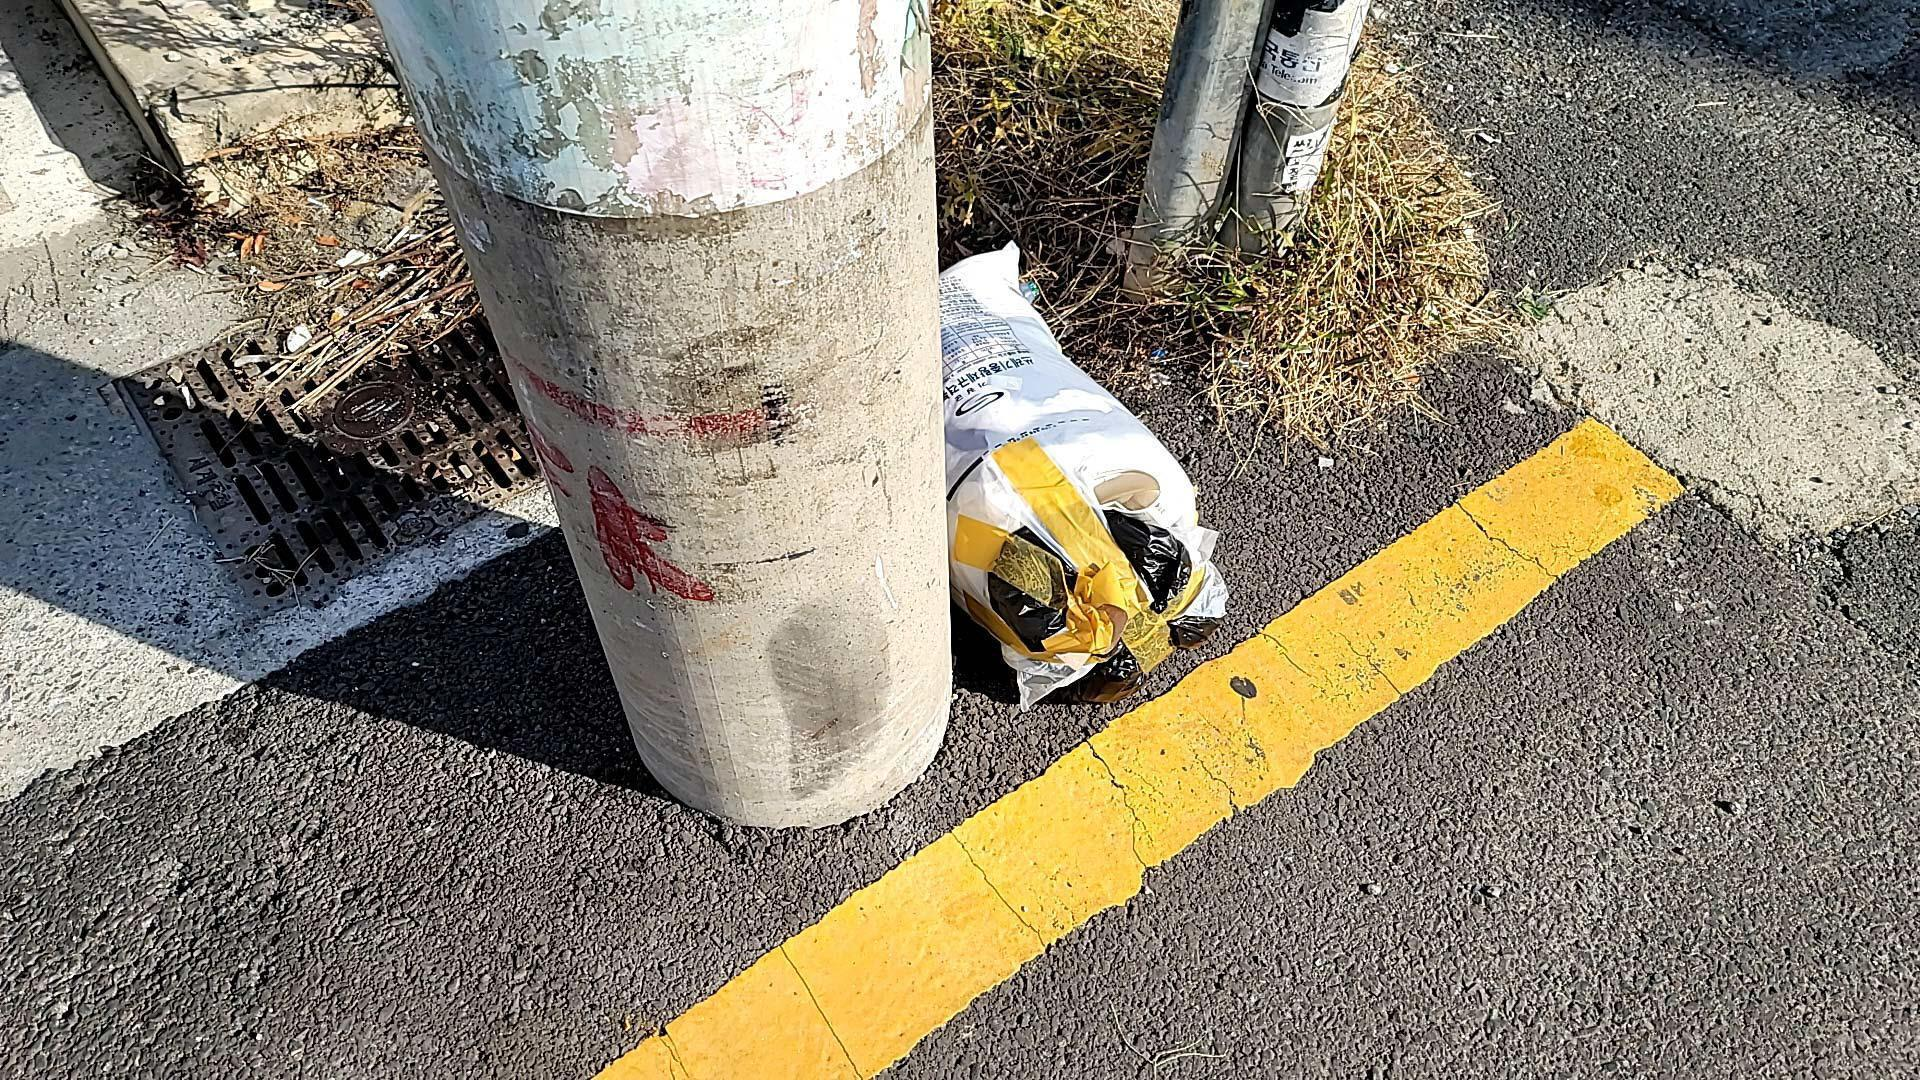white_bag: (889, 237, 1238, 713)
